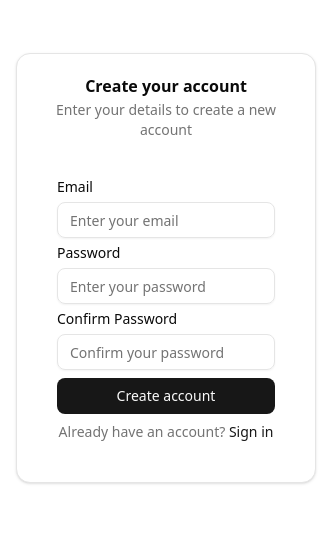
Register › should show error if password is too short
The image size is (333, 538).
In the field labelled "Email": {"x": 166, "y": 220} [57, 202, 275, 238], type "test@example.com"
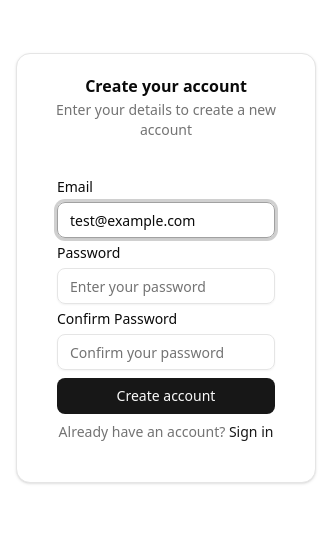
In the password field labelled "Password": {"x": 166, "y": 286} [57, 268, 275, 304], type "12345"
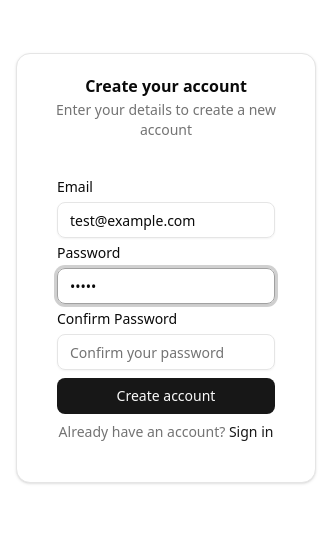
In the password field labelled "Confirm Password": {"x": 166, "y": 352} [57, 334, 275, 370], type "12345"
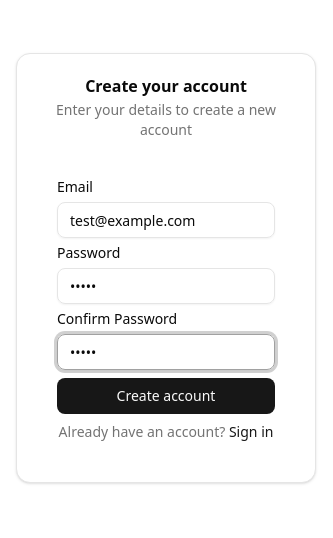
Click the button "Create account": {"x": 166, "y": 396} [57, 378, 275, 414]
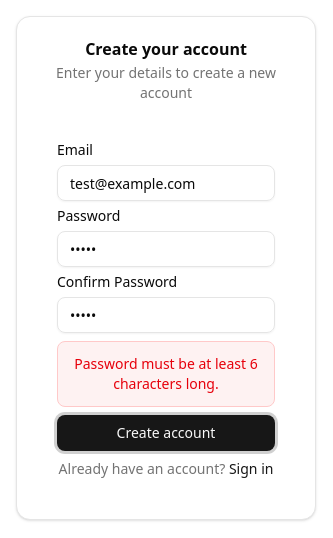
Result: the text "Password must be at least 6 characters long." is shown at [57, 341, 275, 407]
